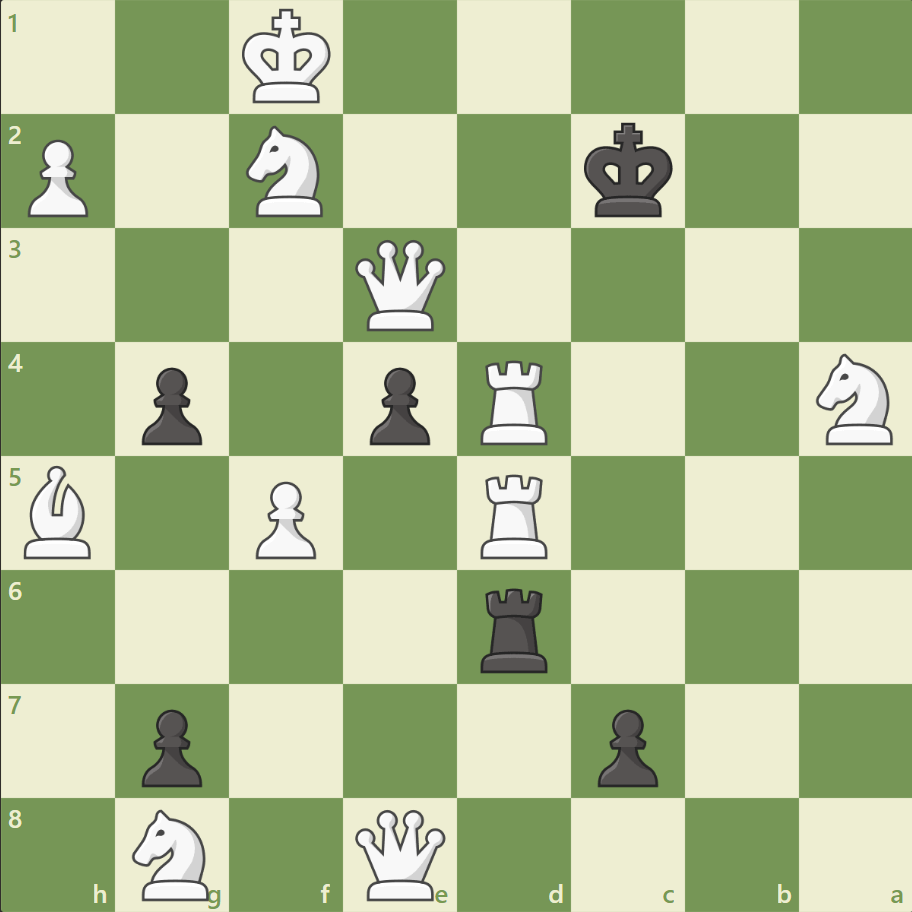B: (17, 460, 101, 563)
K: (238, 4, 338, 112)
N: (124, 802, 222, 904), (806, 348, 903, 450), (238, 121, 335, 223)
P: (247, 473, 322, 564), (20, 132, 95, 223)
Q: (351, 804, 450, 903), (351, 236, 450, 335)
R: (473, 466, 556, 563), (473, 352, 556, 449)
k: (579, 117, 679, 225)
p: (133, 700, 208, 791), (133, 359, 208, 450), (588, 700, 662, 791), (361, 359, 435, 450)
r: (473, 579, 556, 676)
